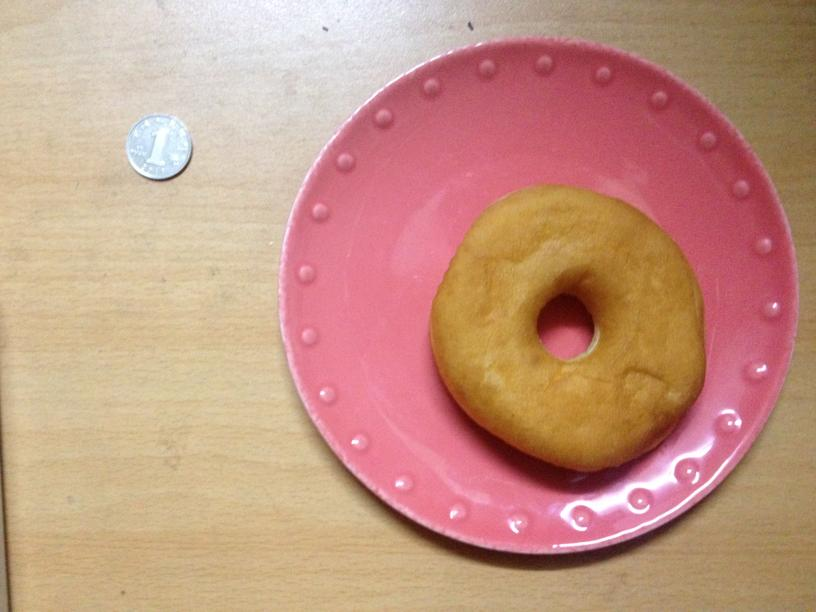coin: (125, 110, 192, 181)
doughnut: (424, 185, 705, 475)
